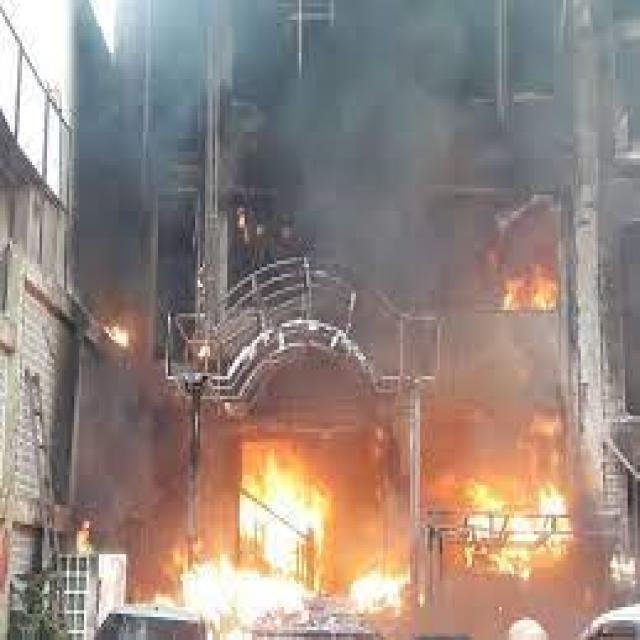fire: (170, 551, 314, 640), (237, 445, 334, 571), (462, 478, 578, 574), (343, 551, 418, 617), (492, 248, 563, 310)
smoke: (272, 3, 459, 300), (106, 3, 242, 218)
